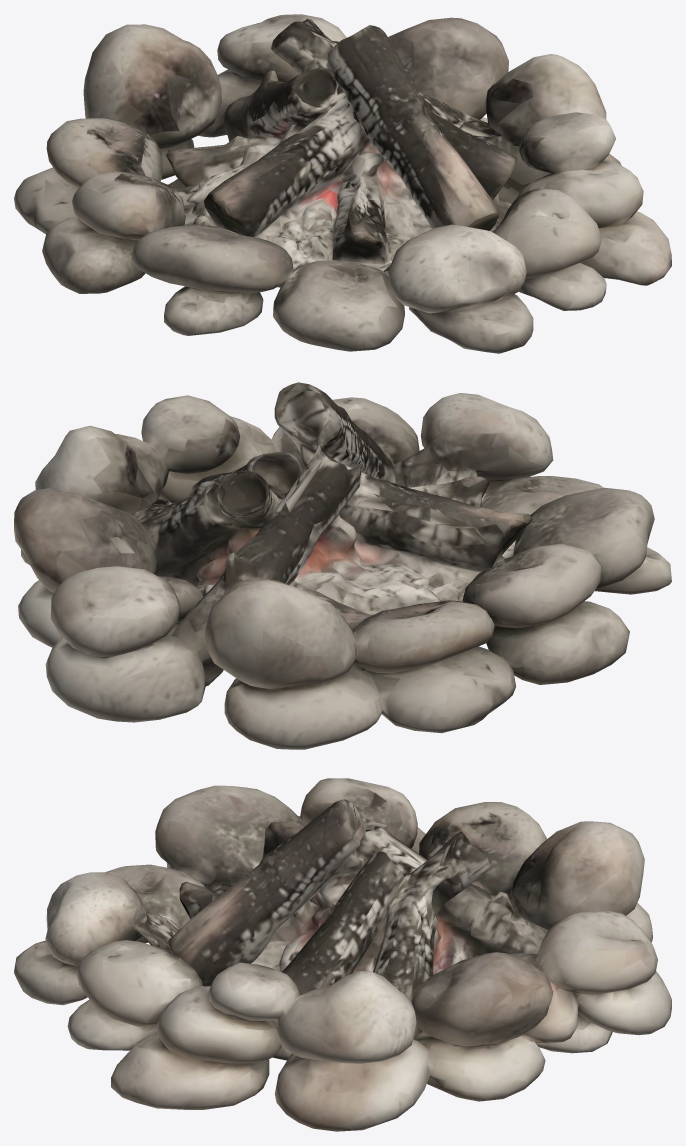
Rendered from firepit_v2.glb.
3 views of the same model, one above another, from view 1: azimuth 30°, elevation 25°; view 2: azimuth 150°, elevation 25°; view 3: azimuth 270°, elevation 25° (orthographic). The views are drawn at different scales.
Visible parts, largest first — view 1: Firepit; view 2: Firepit; view 3: Firepit.
Part boxes in pixels (bbox=[...]): Firepit: bbox=[14, 14, 671, 353]; Firepit: bbox=[14, 382, 671, 749]; Firepit: bbox=[14, 778, 671, 1131].
Bounding box in the file's own units: 2.08 × 0.8053 × 2.17.
1 material, 1 textured.
